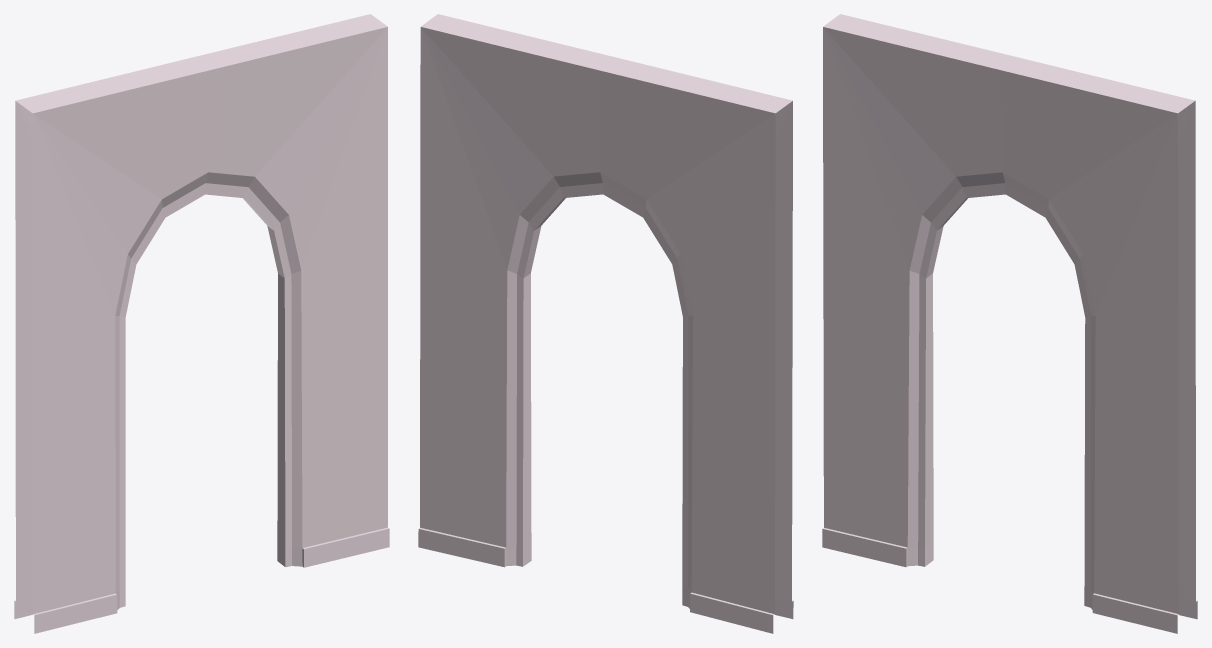
The model's file is env_wall_door_int.fbx.
3 views of the same model, side by side, from view 1: azimuth 30°, elevation 25°; view 2: azimuth 150°, elevation 25°; view 3: azimuth 330°, elevation 25° (orthographic).
Visible parts, largest first — view 1: Casa pared arco marco puerta Interior; view 2: Casa pared arco marco puerta Interior; view 3: Casa pared arco marco puerta Interior.
Part boxes in pixels (x1=…): Casa pared arco marco puerta Interior: x1=14, y1=14, x2=389, y2=633; Casa pared arco marco puerta Interior: x1=418, y1=14, x2=793, y2=633; Casa pared arco marco puerta Interior: x1=822, y1=14, x2=1197, y2=633.
Bounding box in the file's own units: 201 × 280 × 19.57.
Materials: 1 (1 with a texture image).
